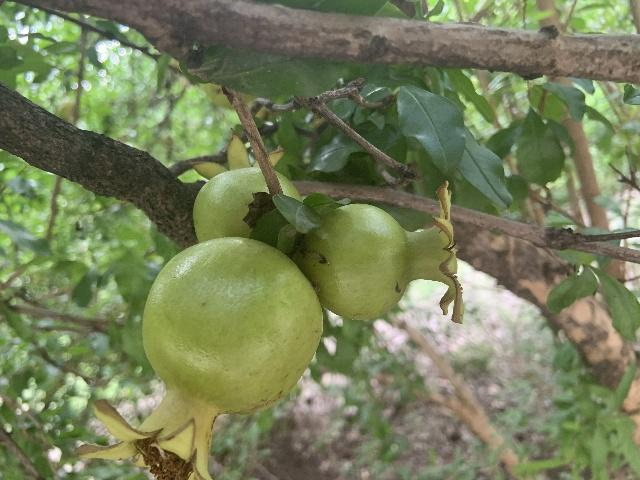mid-growth: (80, 236, 323, 478), (296, 181, 463, 323), (189, 128, 303, 242)
